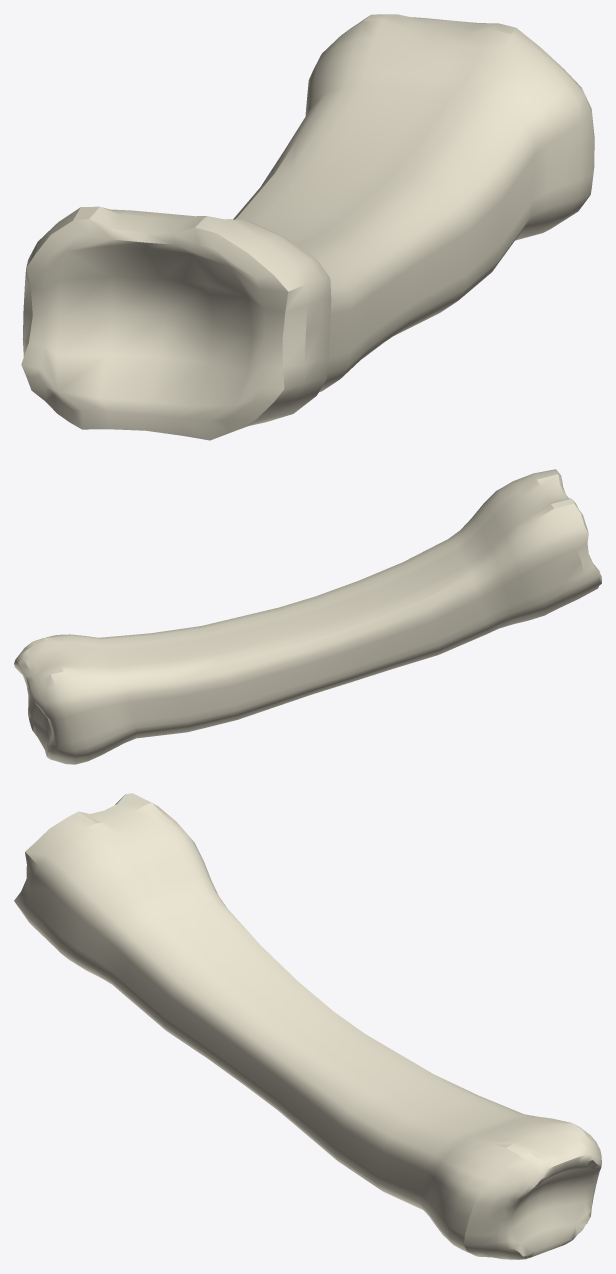
File: Os_BAS Join2.fbx
3 views of the same model, one above another, from view 1: azimuth 30°, elevation 25°; view 2: azimuth 150°, elevation 25°; view 3: azimuth 270°, elevation 25° (orthographic). The views are drawn at different scales.
Visible parts, largest first — view 1: Os Bras Join.2; view 2: Os Bras Join.2; view 3: Os Bras Join.2.
Boxes of the visible parts, x1,y1,x2,y2 form: Os Bras Join.2: (21,14,594,440); Os Bras Join.2: (14,469,601,764); Os Bras Join.2: (14,793,601,1259).
Size of the model in its own units: 634 by 305 by 628.
